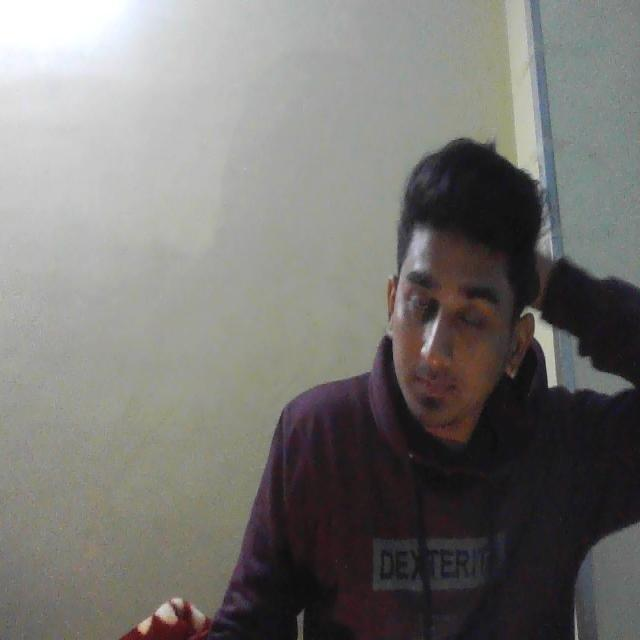real: (381, 164, 534, 453)
